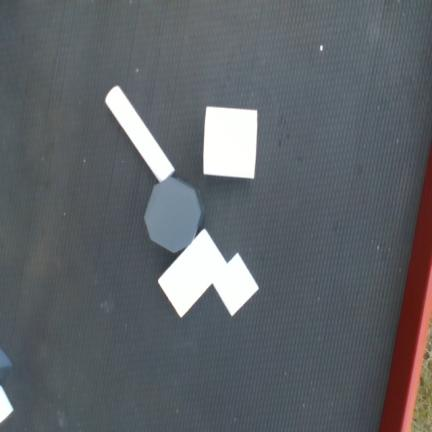Cilindro: (104, 85, 175, 183)
Paralelepipedo: (158, 229, 228, 319)
Piramide: (203, 106, 258, 179), (212, 252, 259, 317), (0, 347, 14, 382)
Prisma_hexagonal: (144, 176, 206, 253)
